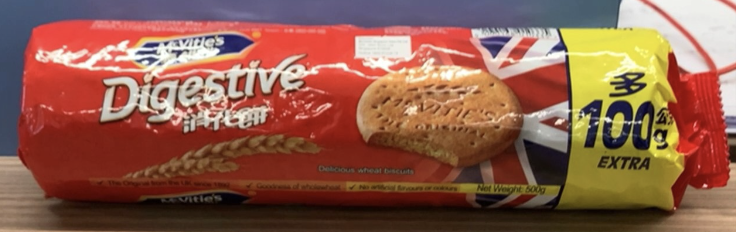cookies_450g: (49, 37, 679, 190)
